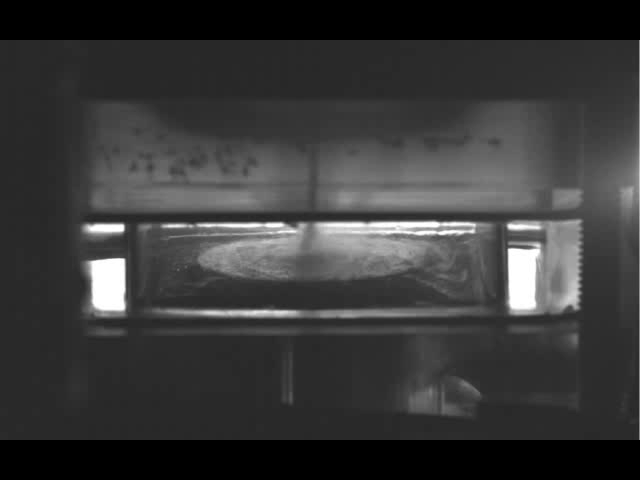Zona de teste: (198, 235, 431, 284)
